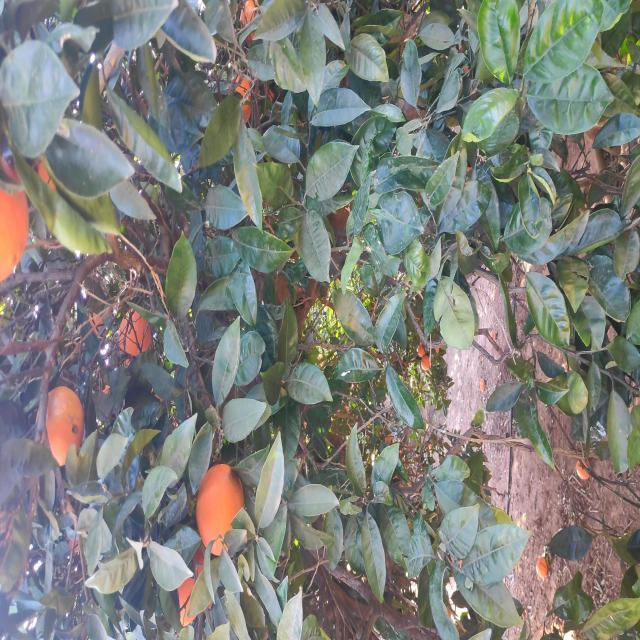Jeruk Sudah Matang: (84, 196, 178, 244), (358, 0, 476, 27), (172, 46, 255, 83), (287, 116, 337, 154), (16, 178, 62, 198), (522, 234, 569, 253), (590, 242, 640, 258), (160, 575, 182, 589), (62, 536, 84, 548), (270, 420, 286, 430), (284, 417, 298, 426), (295, 490, 309, 497), (248, 480, 262, 485)
